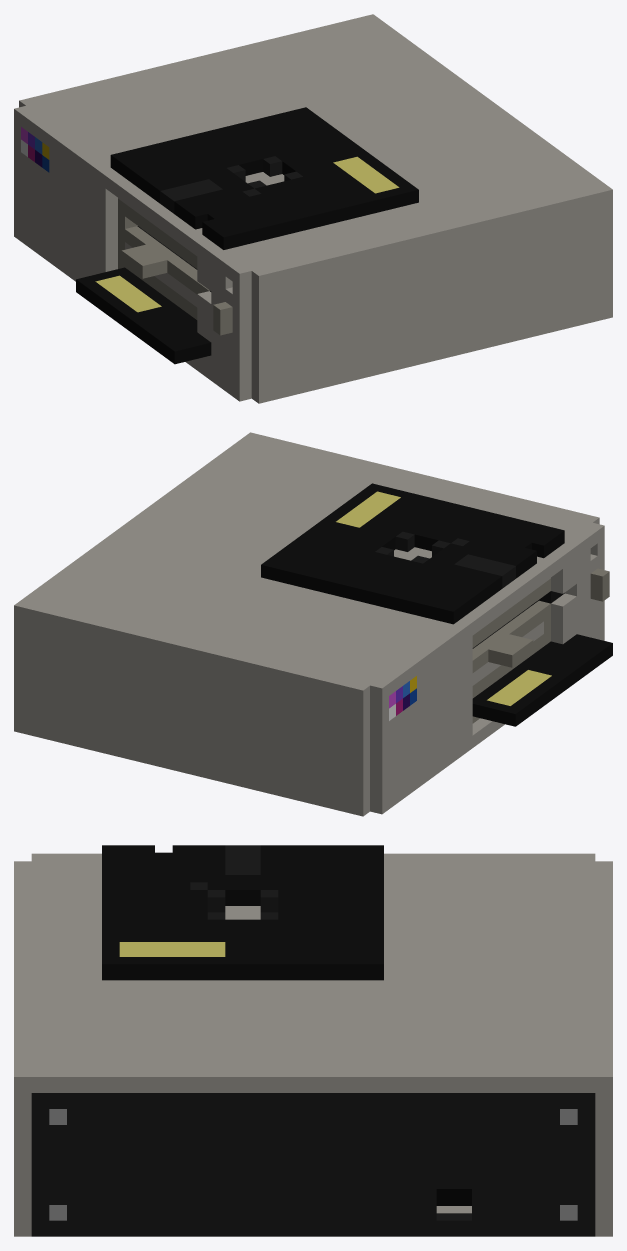
Rendered from 1980s BlueChip PC - Loaded Disk.fbx.
The picture shows the model from 3 angles, top to bottom: view 1: azimuth 30°, elevation 25°; view 2: azimuth 150°, elevation 25°; view 3: azimuth 270°, elevation 25°; orthographic projection. The views are drawn at different scales.
Parts seen in each view (by area): view 1: 1980sBlueChipPC-LoadedDisk; view 2: 1980sBlueChipPC-LoadedDisk; view 3: 1980sBlueChipPC-LoadedDisk.
Part boxes in pixels (bbox=[...]): 1980sBlueChipPC-LoadedDisk: bbox=[14, 14, 612, 403]; 1980sBlueChipPC-LoadedDisk: bbox=[14, 432, 612, 816]; 1980sBlueChipPC-LoadedDisk: bbox=[14, 845, 612, 1236].
Bounding box in the file's own units: 3300 × 1100 × 3400.
